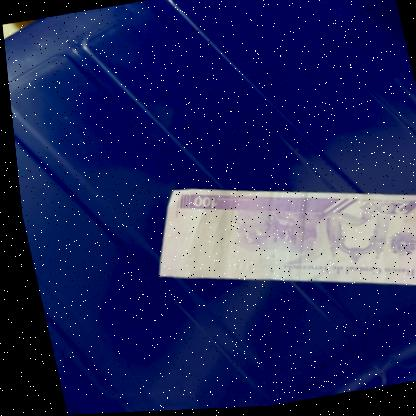one_hundred-back-vef: (131, 148, 416, 330)
